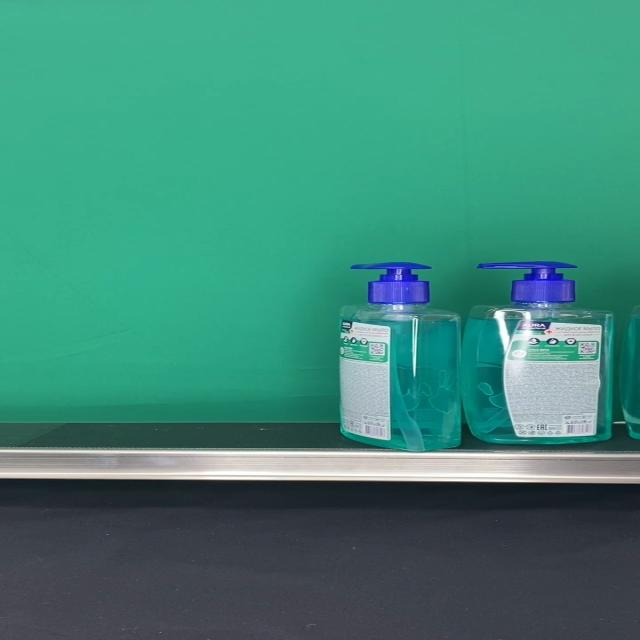Bottle: (462, 262, 613, 444), (337, 262, 461, 450)
Cap: (477, 262, 577, 304), (350, 262, 432, 303)
